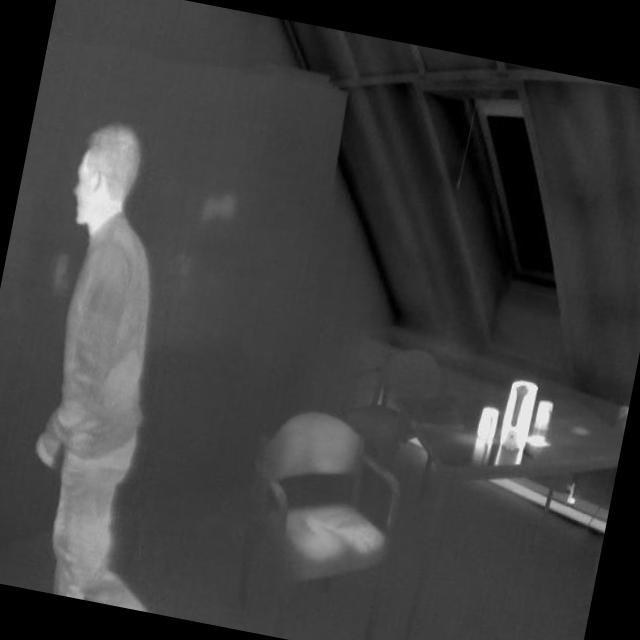person: (0, 103, 211, 606)
